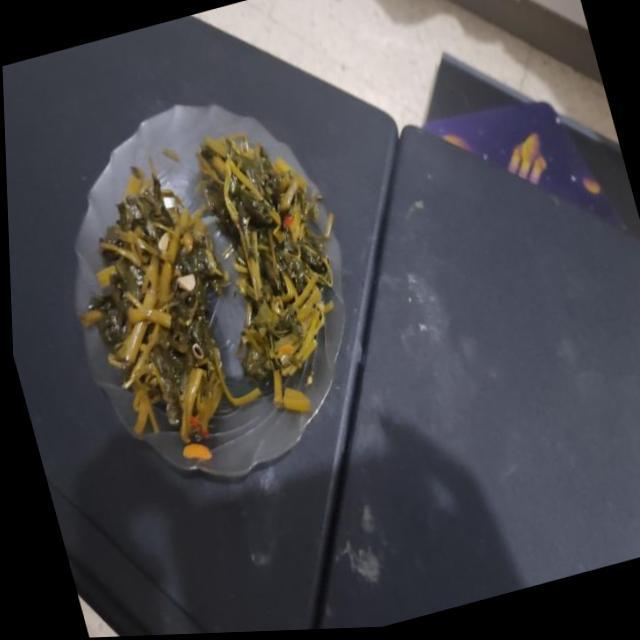tumis_kangkung: (82, 160, 232, 445), (198, 135, 332, 410)
